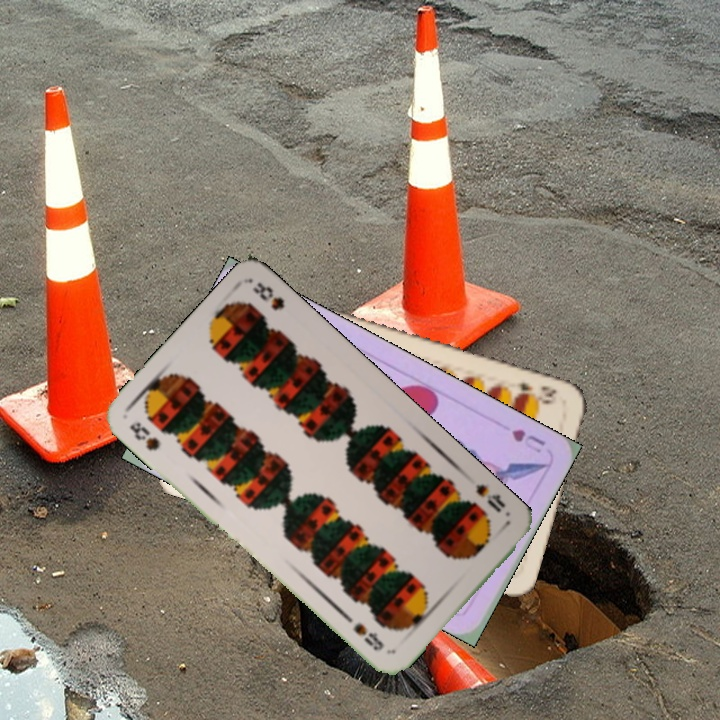E10: (506, 378, 560, 407)
HU: (507, 425, 548, 456)
S8: (125, 417, 163, 454), (471, 480, 508, 516)
